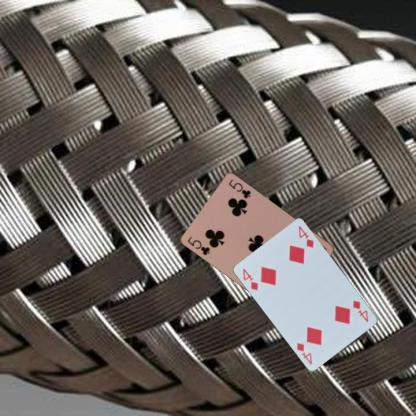4d: (350, 298, 370, 324), (240, 266, 260, 292)
5c: (185, 234, 211, 256)
